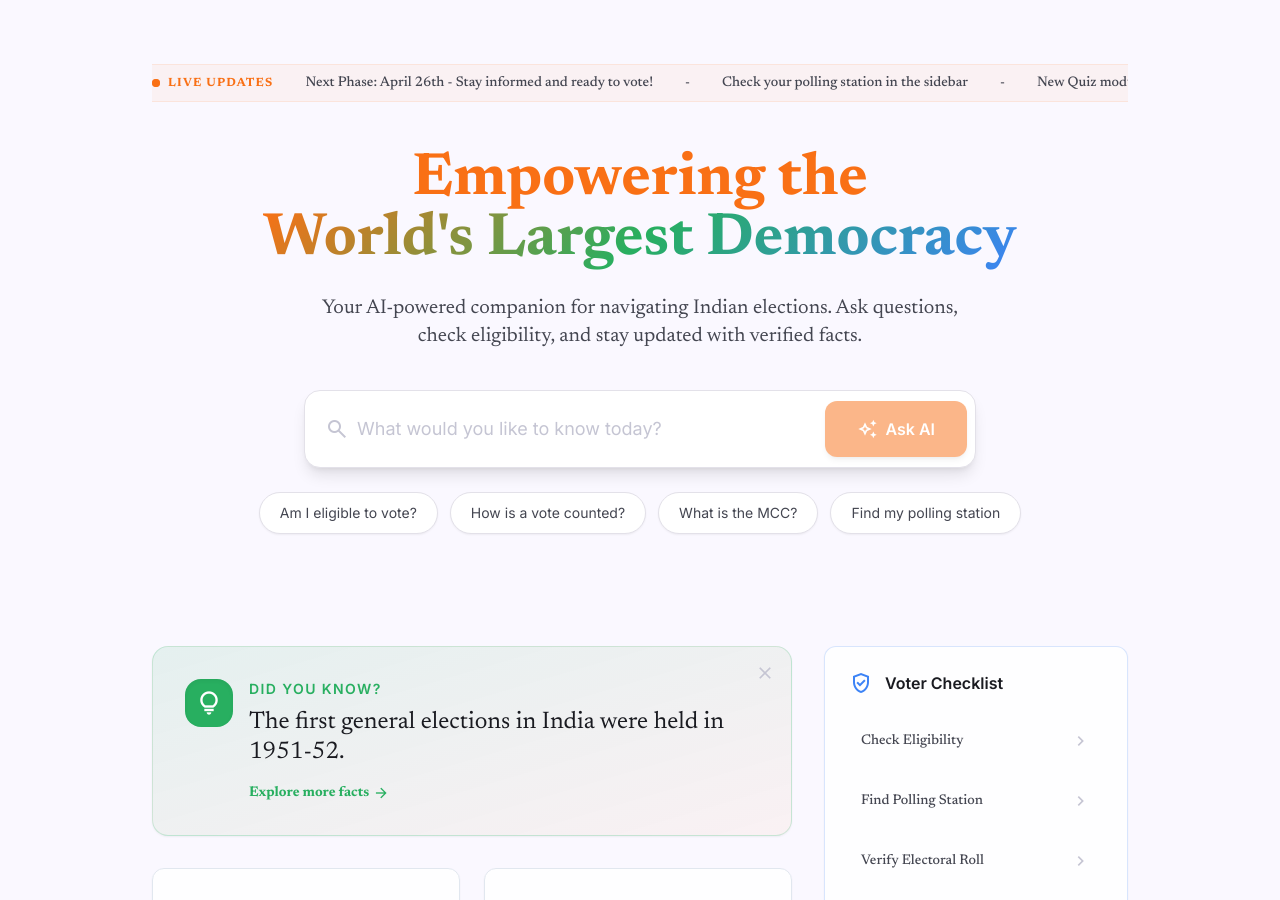
HomePage › opens a responsive AI response dialog for long answers and caps sources
This screenshot has width=1280, height=900.
Type "How are votes counted?" into the field named "Ask an election question" at (587, 429), box [357, 399, 818, 459]
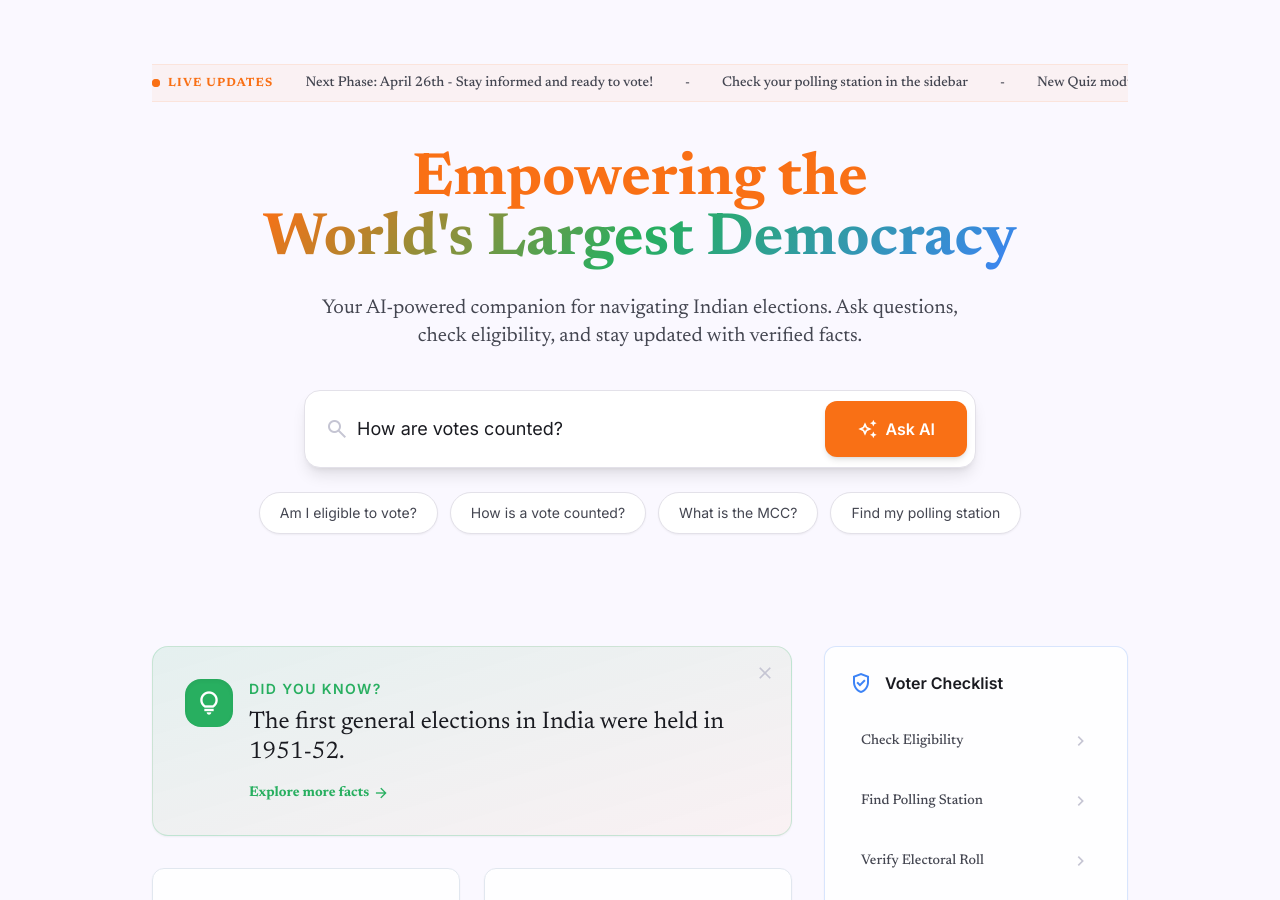
Click the button "Ask AI" at (896, 429), box [826, 401, 967, 457]
(page scrolled)
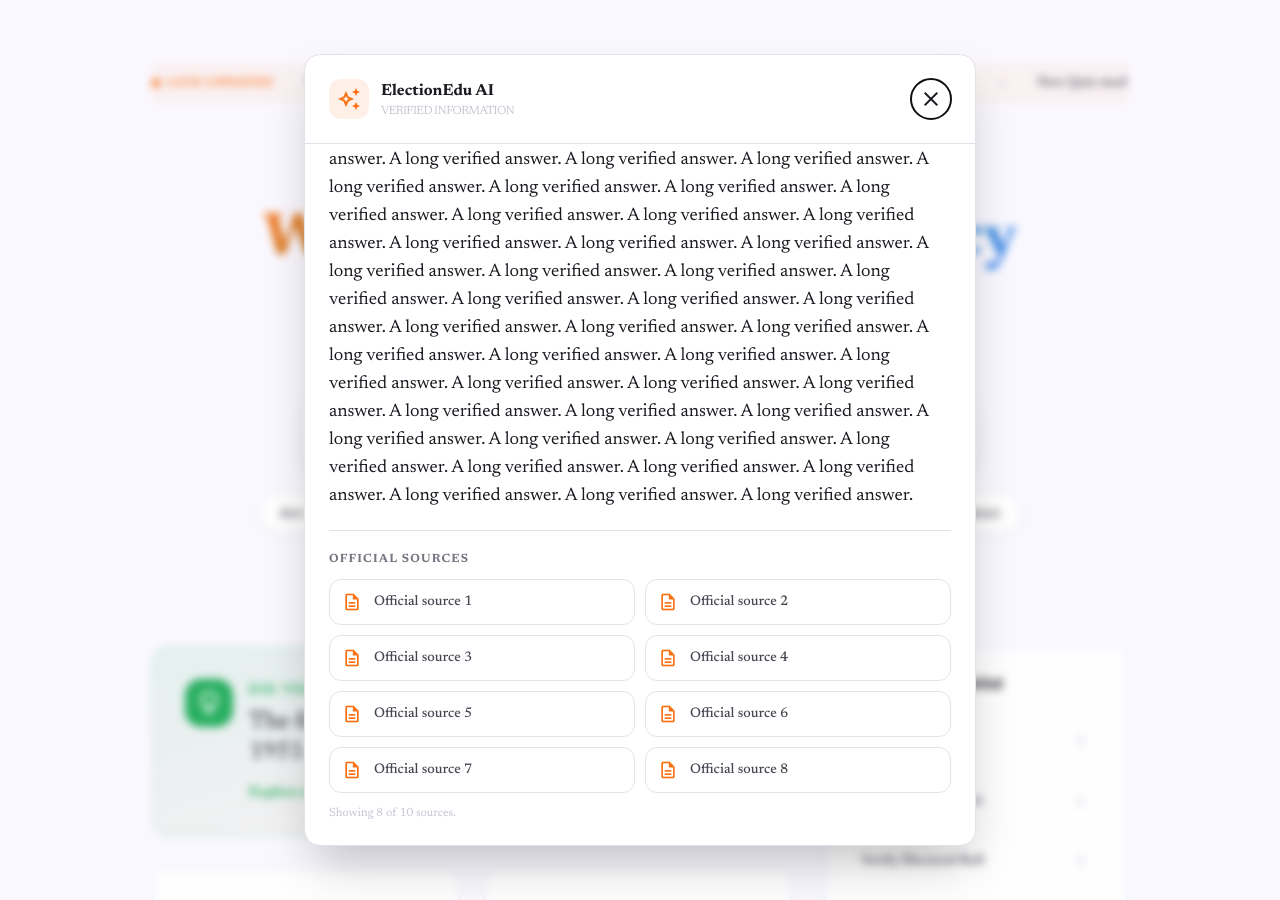
Result: the text "Showing 8 of 10 sources." is shown at [329, 807, 456, 819]
